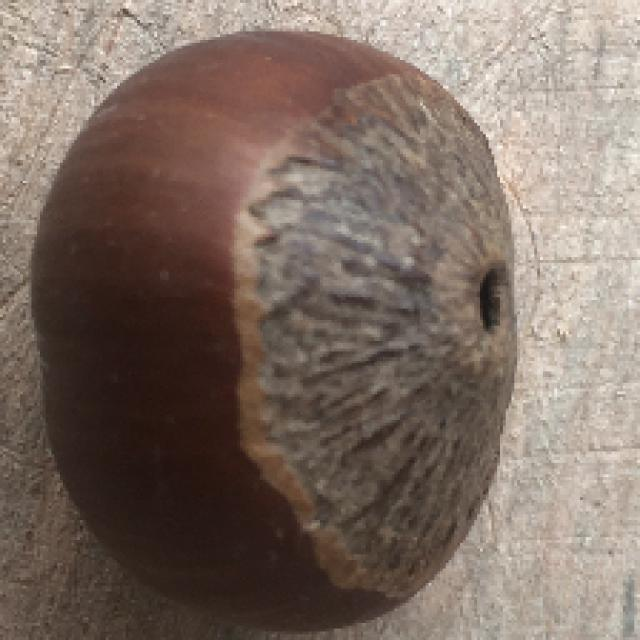damagedHazelnut: (31, 22, 523, 630)
